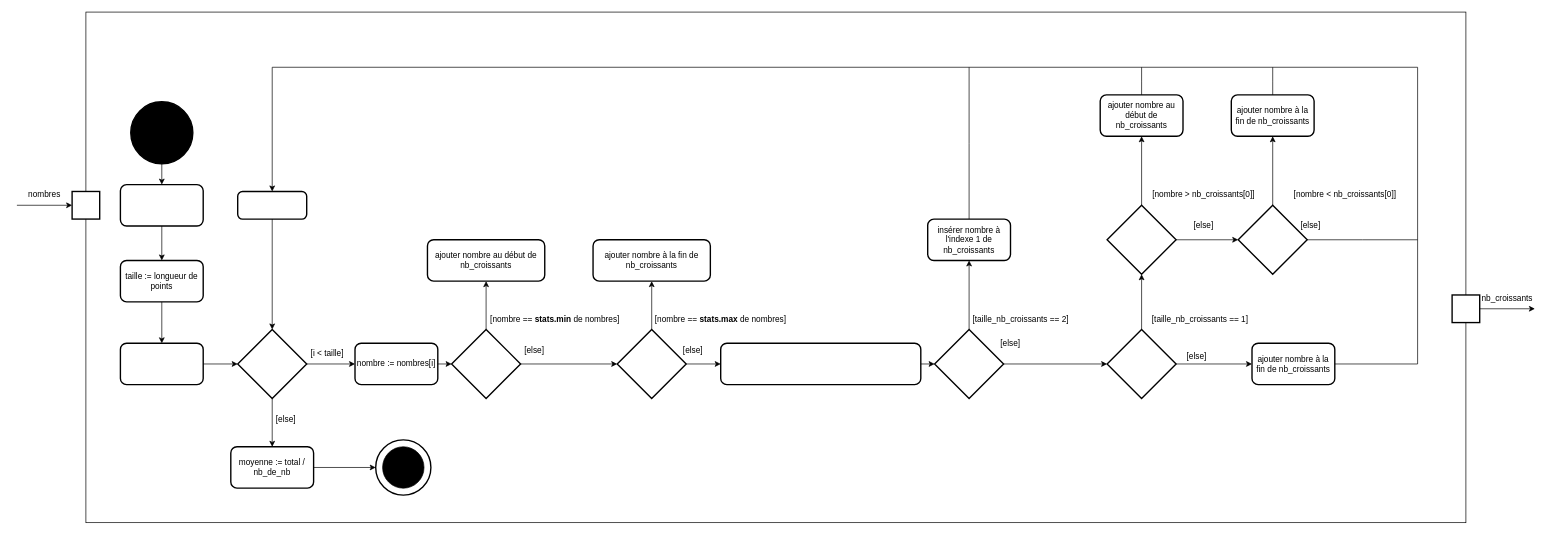
Some shapes in this 1553 by 535 pixel diagram are drawn without their labels. The shapes that lost their labels are listed below. From the top down, each one's centre as x and y in pixels, then its label:
At (x=161, y=205): "nb_croissants = []".
At (x=272, y=204): "i = i + 1".
At (x=161, y=363): "i := 0".
At (x=820, y=363): "taille_nb_croissants := longueur de nb_croissants".
